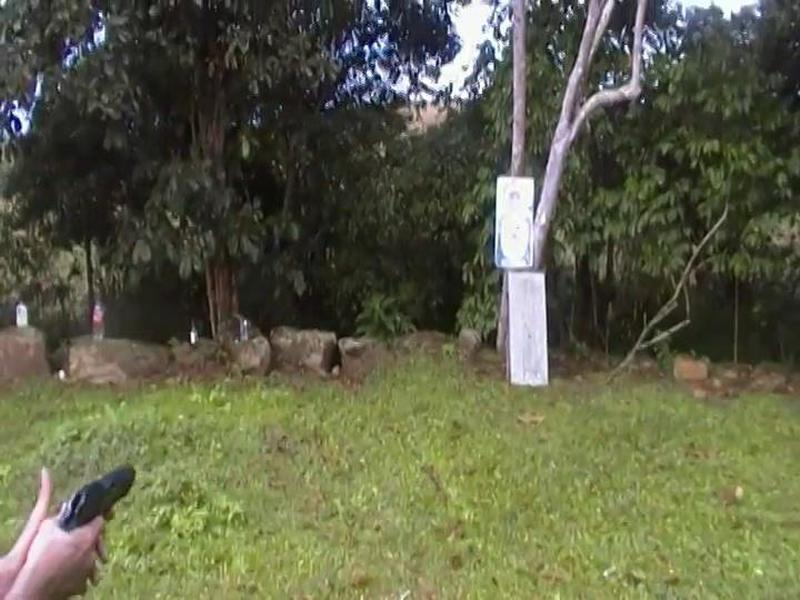Pistola: (37, 450, 147, 572)
